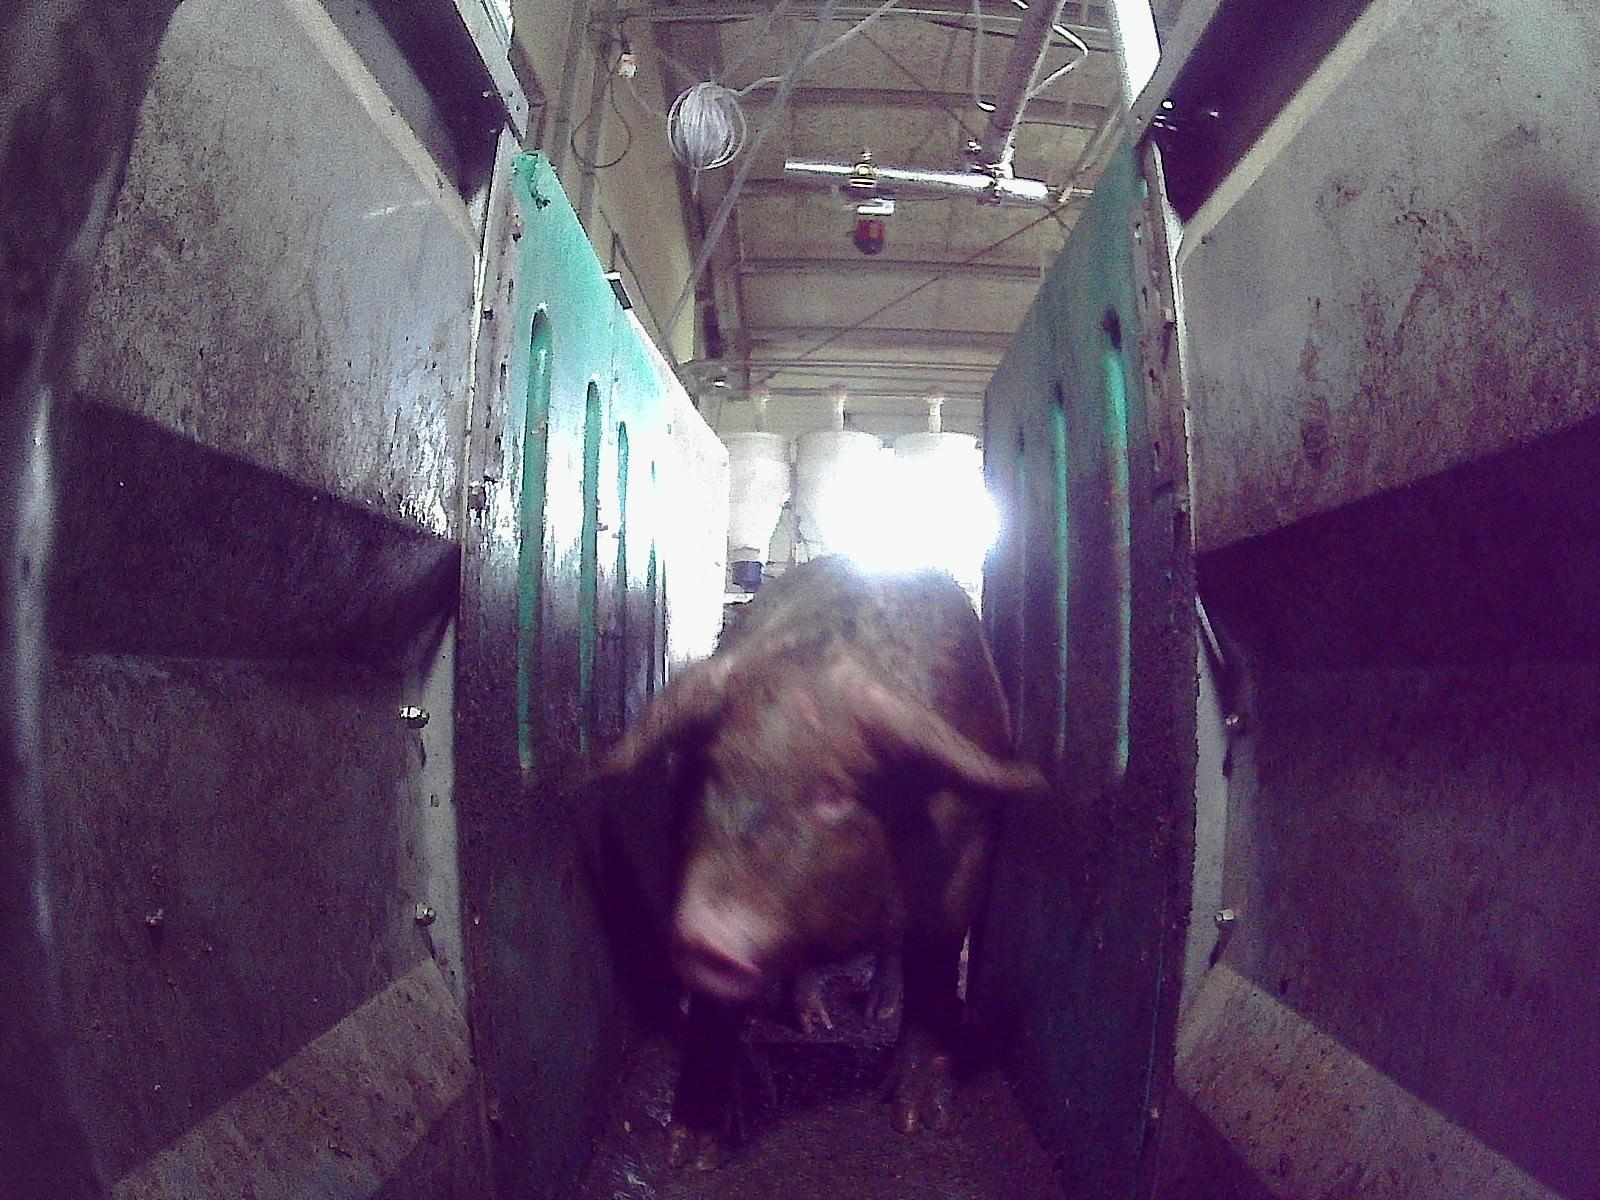Face: (680, 648, 912, 1003)
